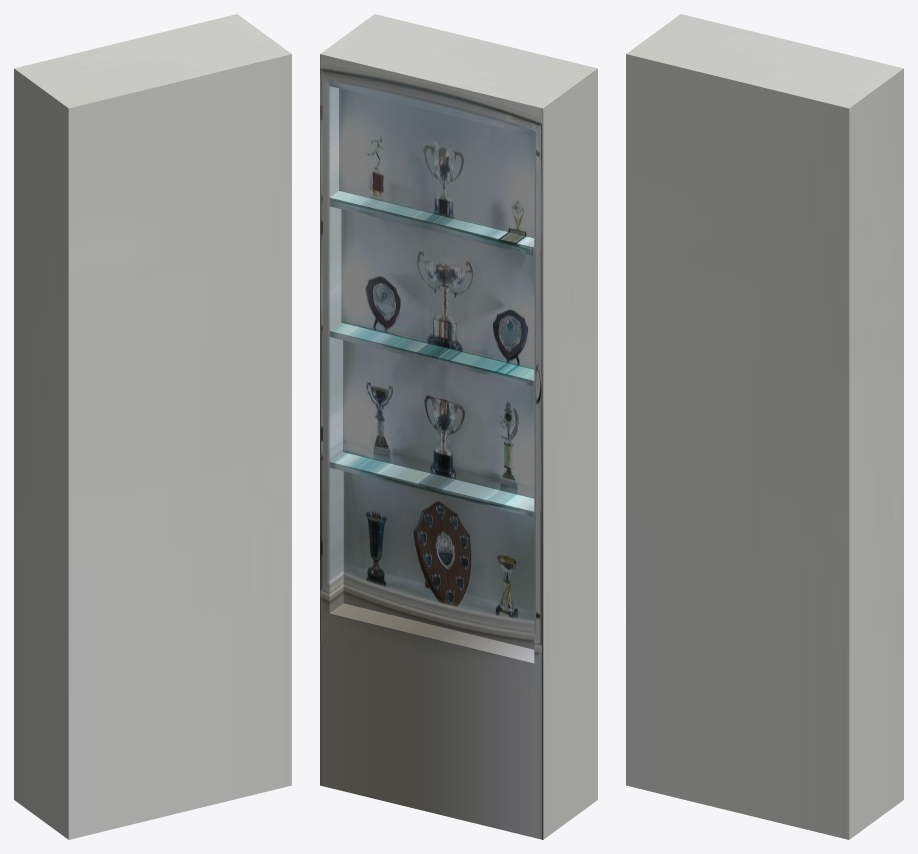
The model's file is sf_trophy_cab.glb.
3 views of the same model, side by side, from view 1: azimuth 30°, elevation 25°; view 2: azimuth 150°, elevation 25°; view 3: azimuth 330°, elevation 25° (orthographic).
Visible parts, largest first — view 1: Cube; view 2: Cube; view 3: Cube.
Part boxes in pixels (box(x1,y1,x2,y2)): Cube: box(14, 14, 291, 839); Cube: box(320, 14, 597, 839); Cube: box(626, 14, 903, 839).
Bounding box in the file's own units: 0.6128 × 1.92 × 0.2605.
1 material, 1 textured.
